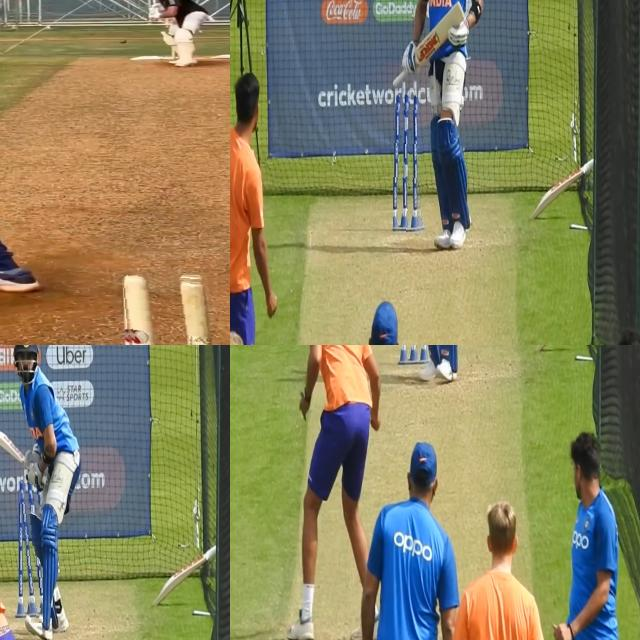Cricket ball: (121, 272, 230, 345), (119, 39, 128, 43)
Stumps: (393, 92, 425, 233), (17, 478, 43, 624)
